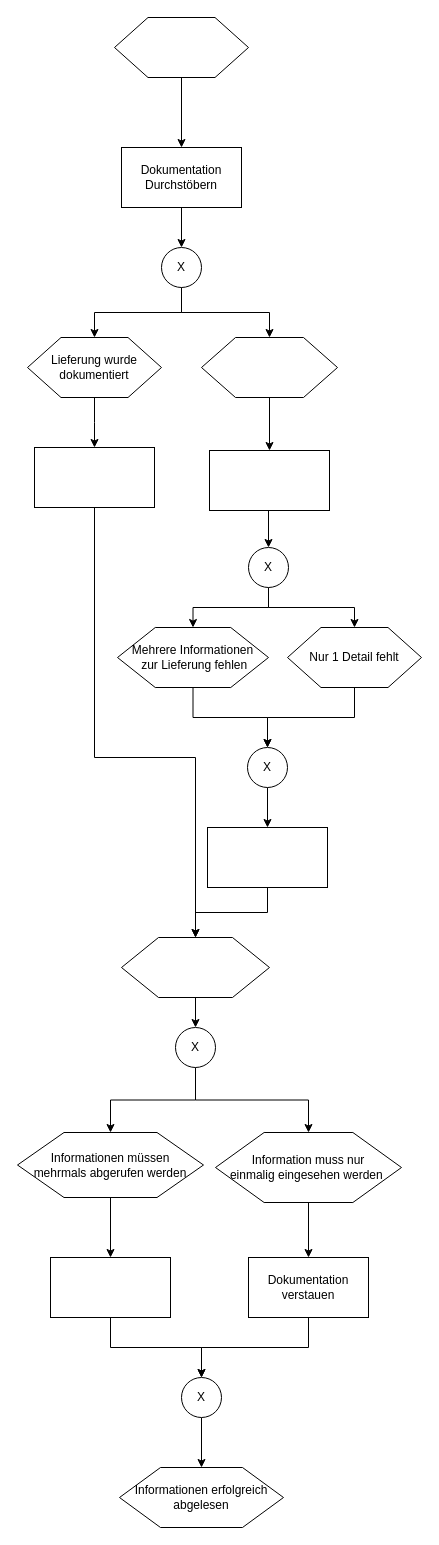
Some shapes in this 439 by 1545 pixel diagram are drawn without their labels. The centre of each missing label's shape, as x and y in pixels:
Dokumentation beibehalten: (x=110, y=1287)
Dokumentation ergänzen: (x=267, y=857)
Dokumentation fehlerfrei: (x=195, y=967)
Information zu einer Lieferung einsehen: (x=181, y=47)
Lieferung wurde nicht dokumentiert: (x=269, y=367)
Mit Lieferant klären: (x=269, y=480)
Relevante Informationen ablesen: (x=94, y=477)
